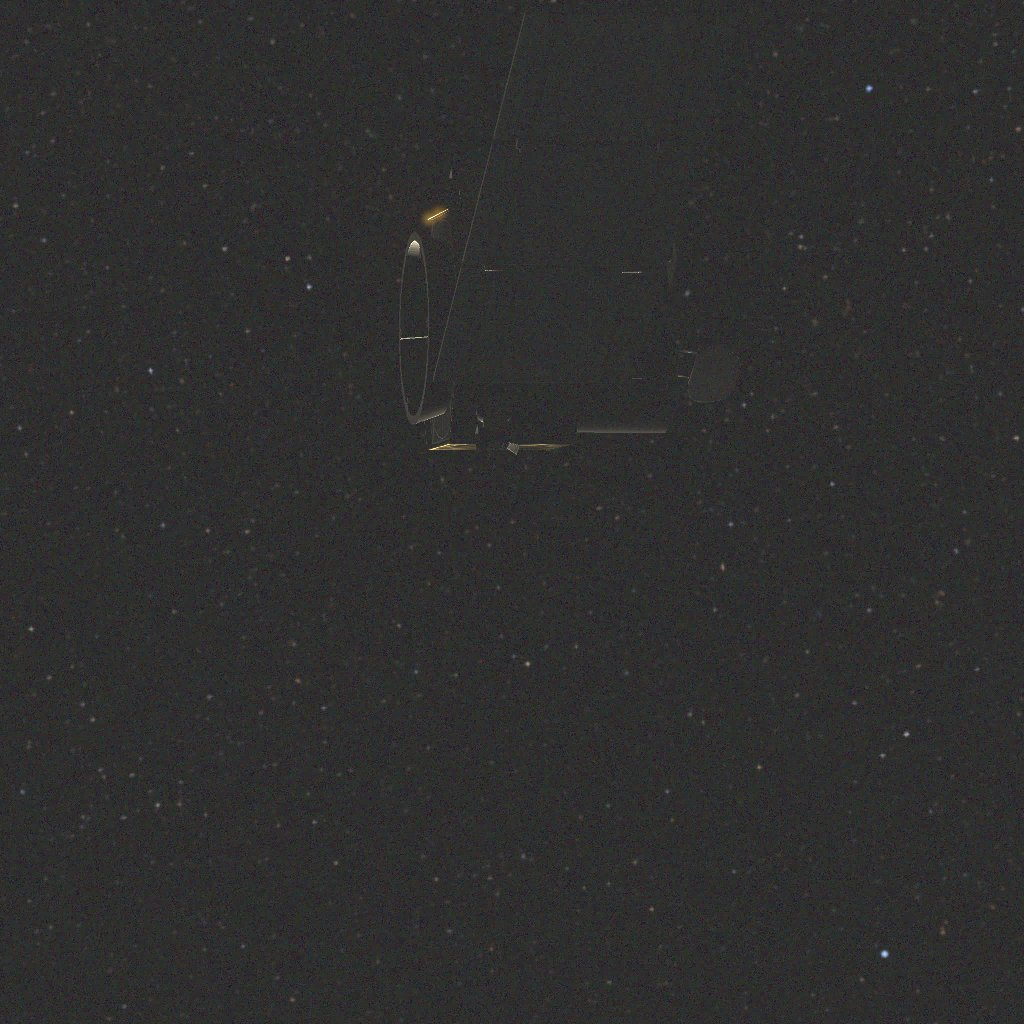earth_observation_sat_1: (399, 9, 740, 455)
